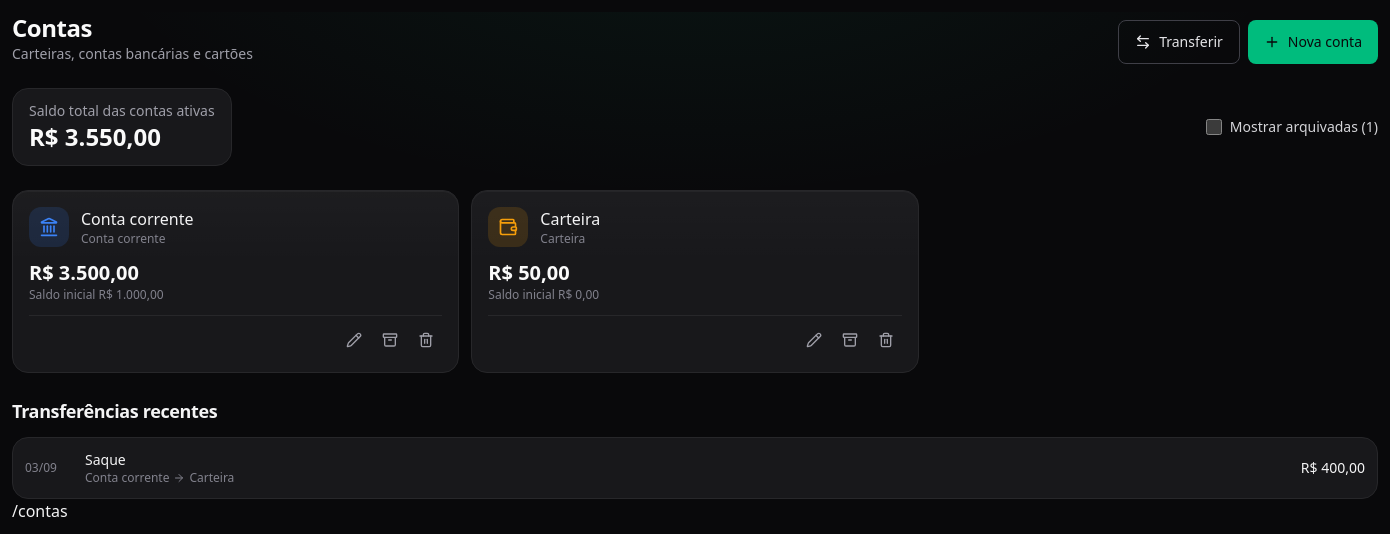
Test: AccountsPage › lists active accounts with balances and hides archived ones until asked
Expected: the element "Conta corrente" is shown, x1=81 y1=208 x2=194 y2=230
Expected: the element "Conta antiga" is not shown
Click the checkbox labelled "Mostrar arquivadas (1)": point(1214, 127) x1=1206 y1=119 x2=1222 y2=135
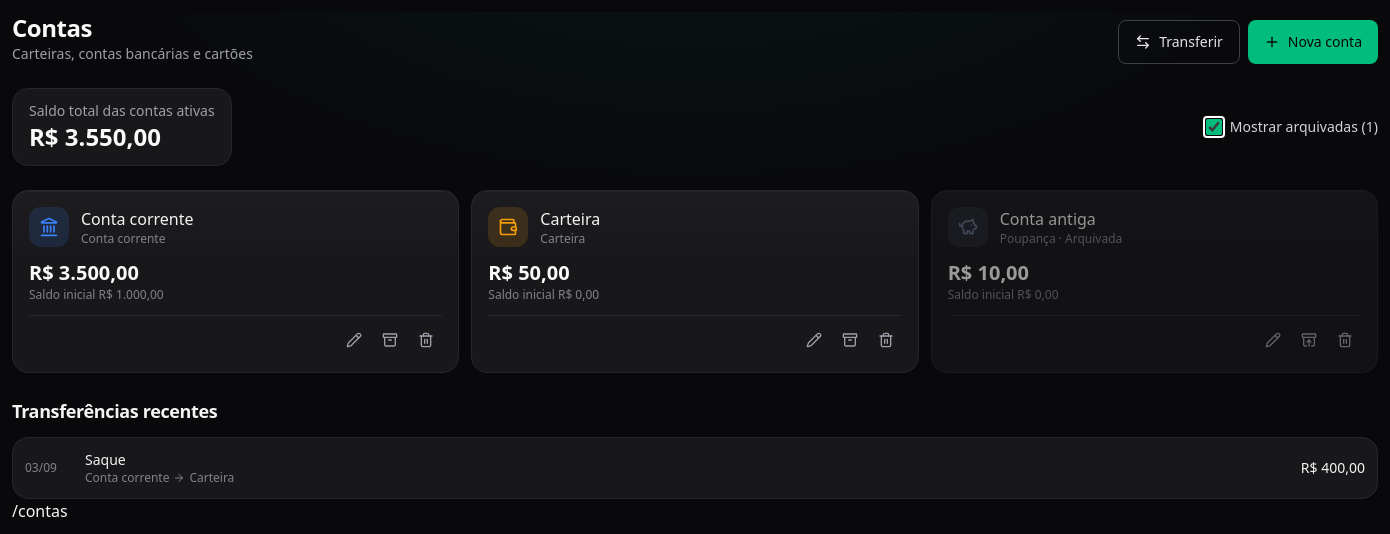
Now the element "Conta antiga" shows "Arquivada", box x1=1056 y1=230 x2=1122 y2=247
